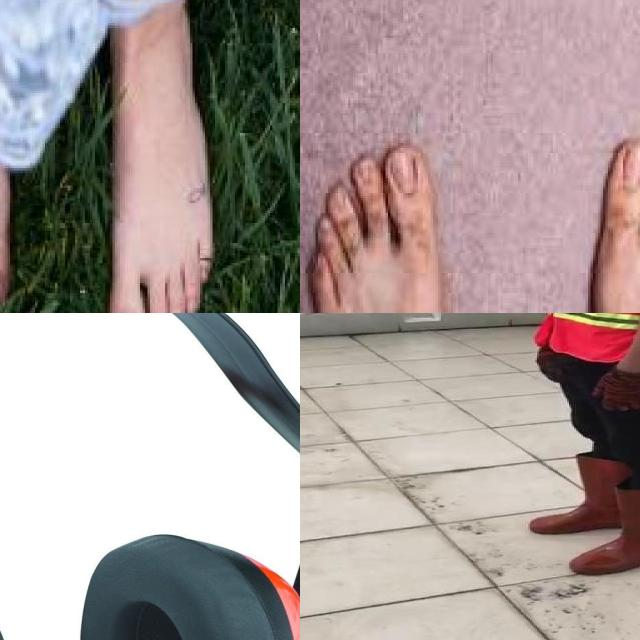Barefoots: (81, 0, 237, 313), (311, 110, 467, 313)
Ear-protection: (78, 531, 300, 640)
boots: (526, 455, 633, 532), (572, 488, 640, 575)
person: (517, 313, 640, 580)
